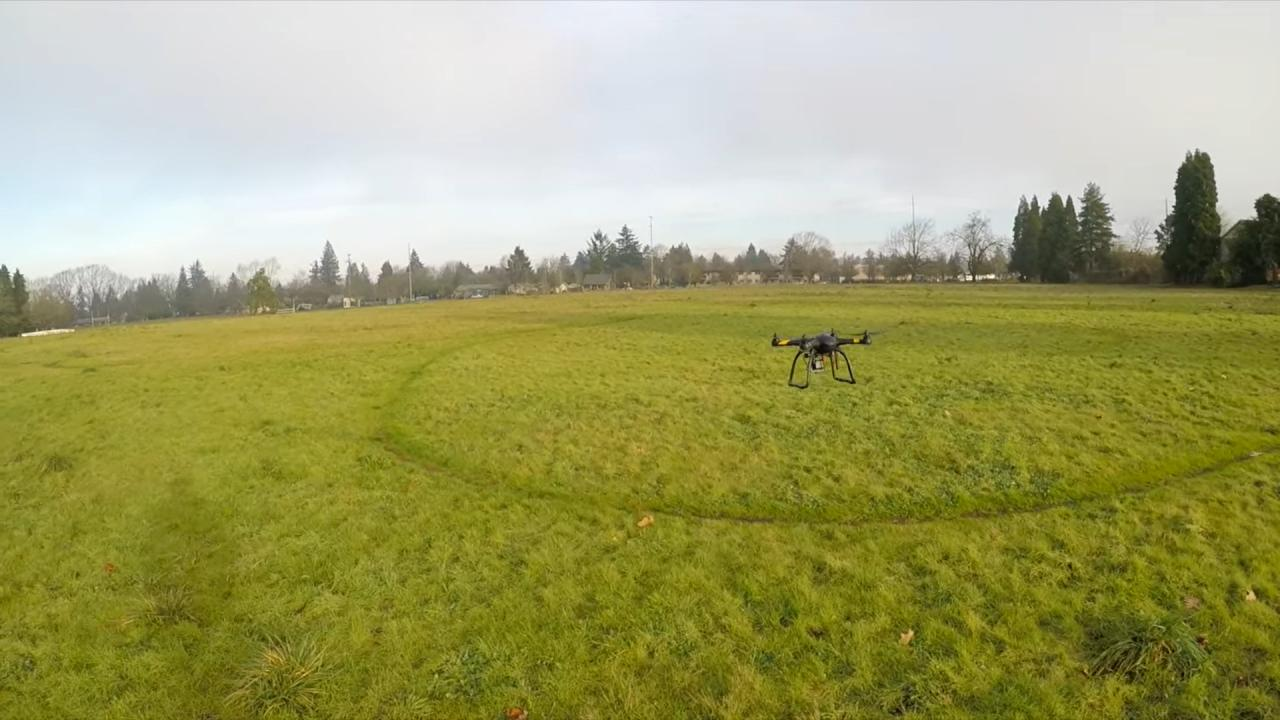Drone: (754, 316, 880, 400)
